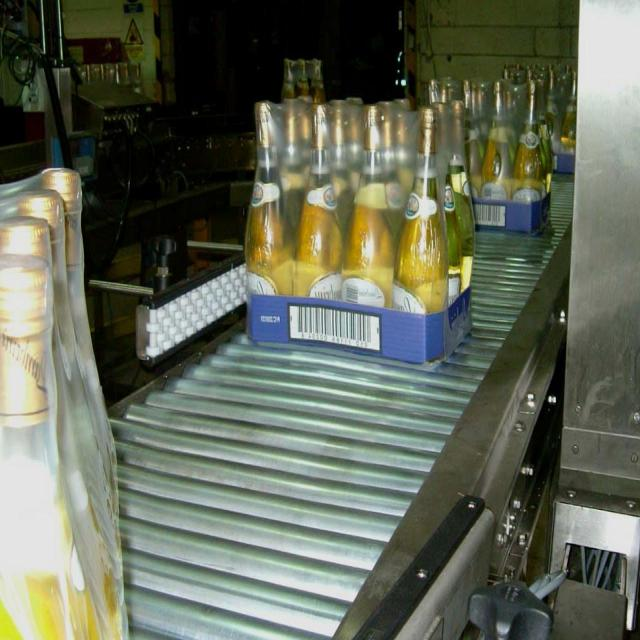bottle: (18, 155, 135, 640), (9, 180, 131, 640), (0, 213, 120, 635), (0, 251, 79, 640), (390, 106, 450, 316), (340, 103, 396, 310), (242, 100, 294, 310), (292, 103, 344, 302), (444, 97, 477, 305)
